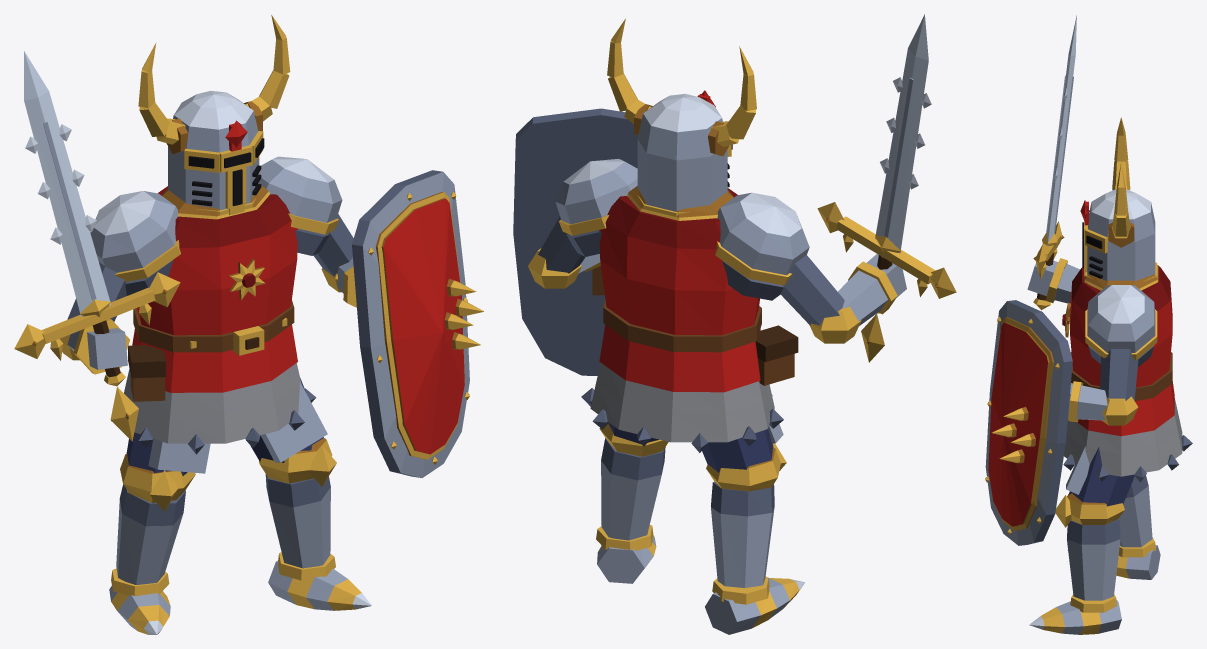
The model's file is knight.glb.
3 renders of one model, left to right at view 1: azimuth 30°, elevation 25°; view 2: azimuth 150°, elevation 25°; view 3: azimuth 270°, elevation 25°, orthographic. The views are drawn at different scales.
Parts seen in each view (by area): view 1: Knight; view 2: Knight; view 3: Knight.
Part boxes in pixels (box(x1,y1,x2,y2)): Knight: box(14, 15, 483, 634); Knight: box(513, 14, 956, 634); Knight: box(985, 15, 1192, 634).
Size of the model in its own units: 1.8 by 2.41 by 0.905.
Materials: 1 (1 with a texture image).
